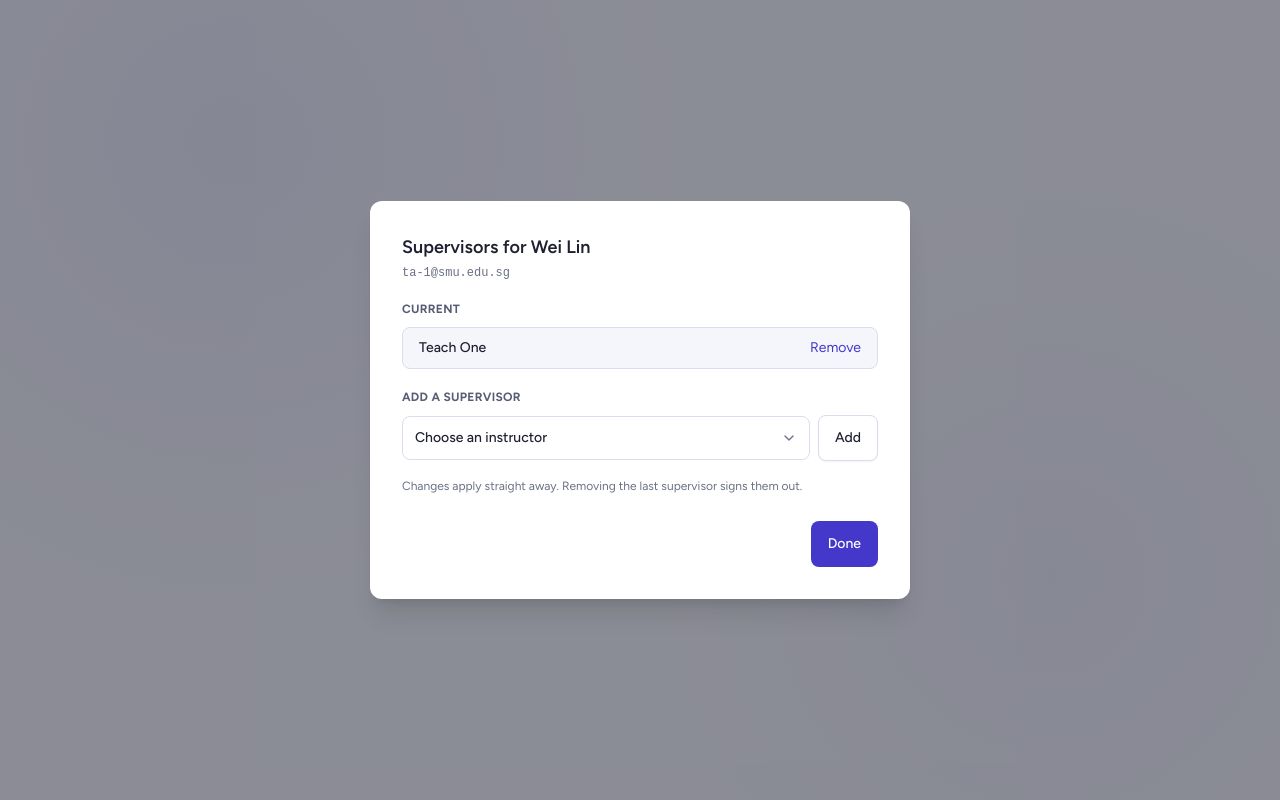
it: SupervisorsDialog › offers only active instructors who aren't already linked
The image size is (1280, 800).
Click the dropdown named "Instructor to add" at (481, 438), box x1=402 y1=416 x2=810 y2=460
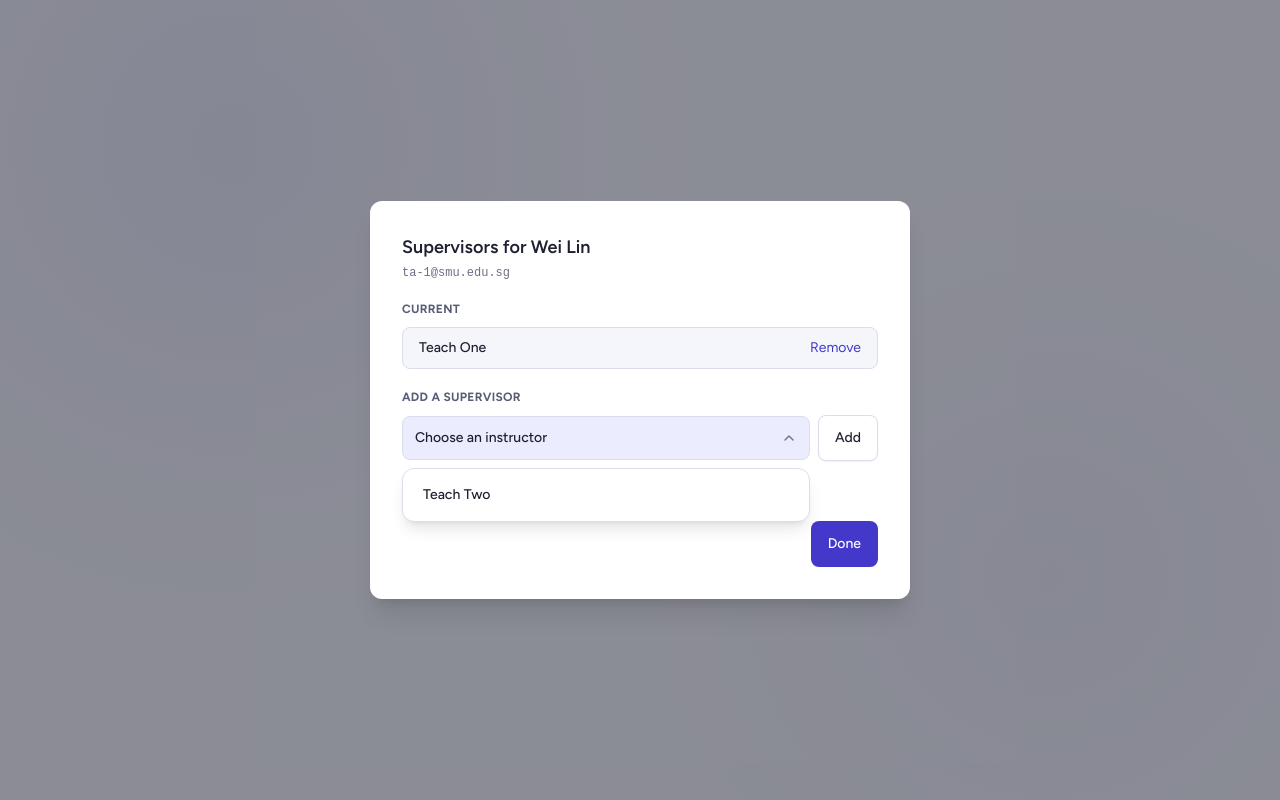
expect the option "Teach Two" is shown: met, box x1=423 y1=486 x2=490 y2=503
